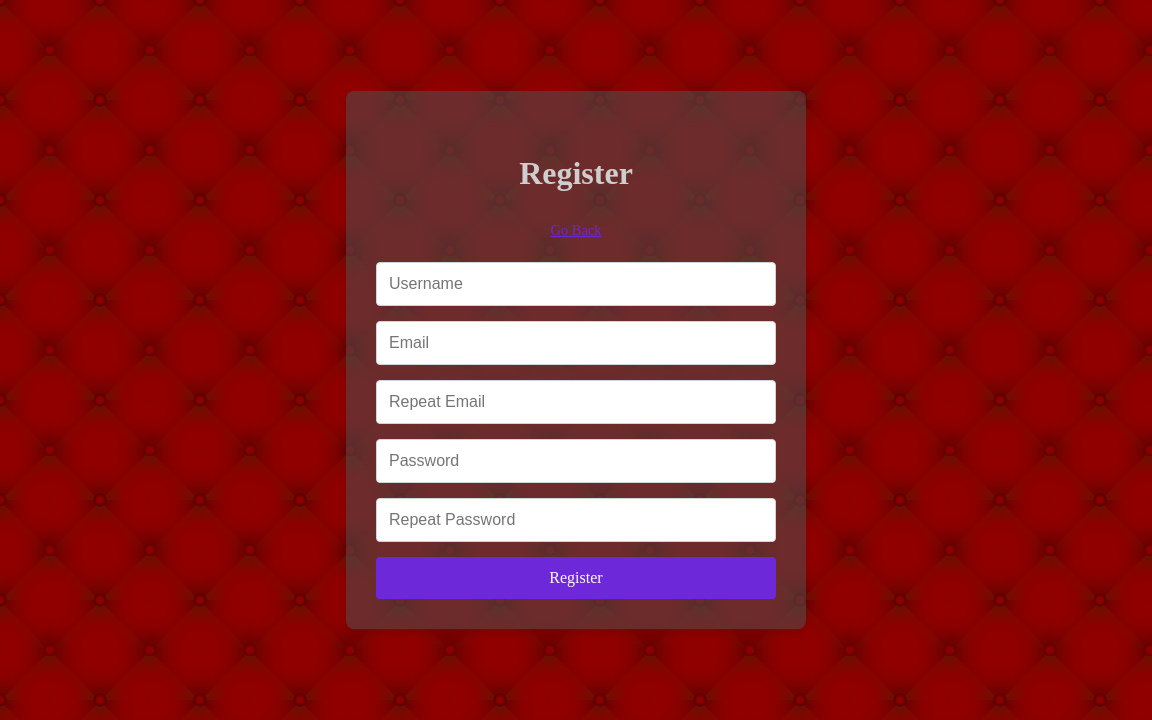
Test: RegisterPage Component › shows an error message if emails do not match
// Fill in the form fields
Type "testuser" into the field with placeholder "Username" at (576, 284), box [376,262,776,306]
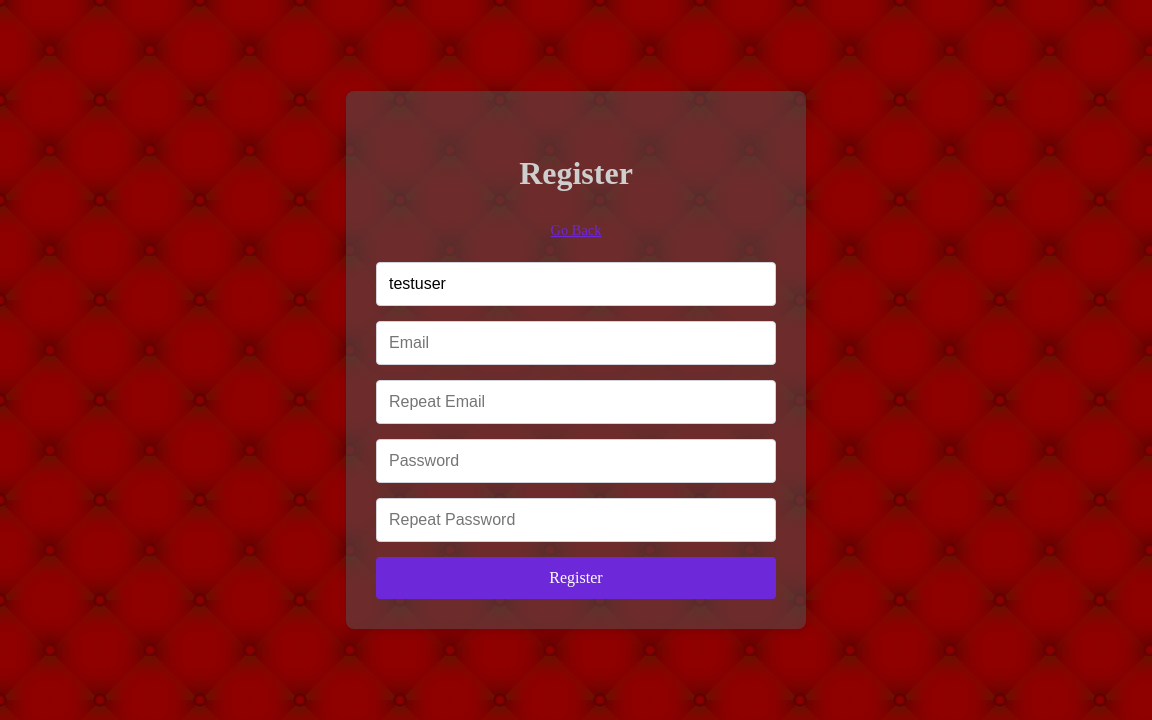
Type "test@example.com" into the field with placeholder "Email" at (576, 343), box [376,321,776,365]
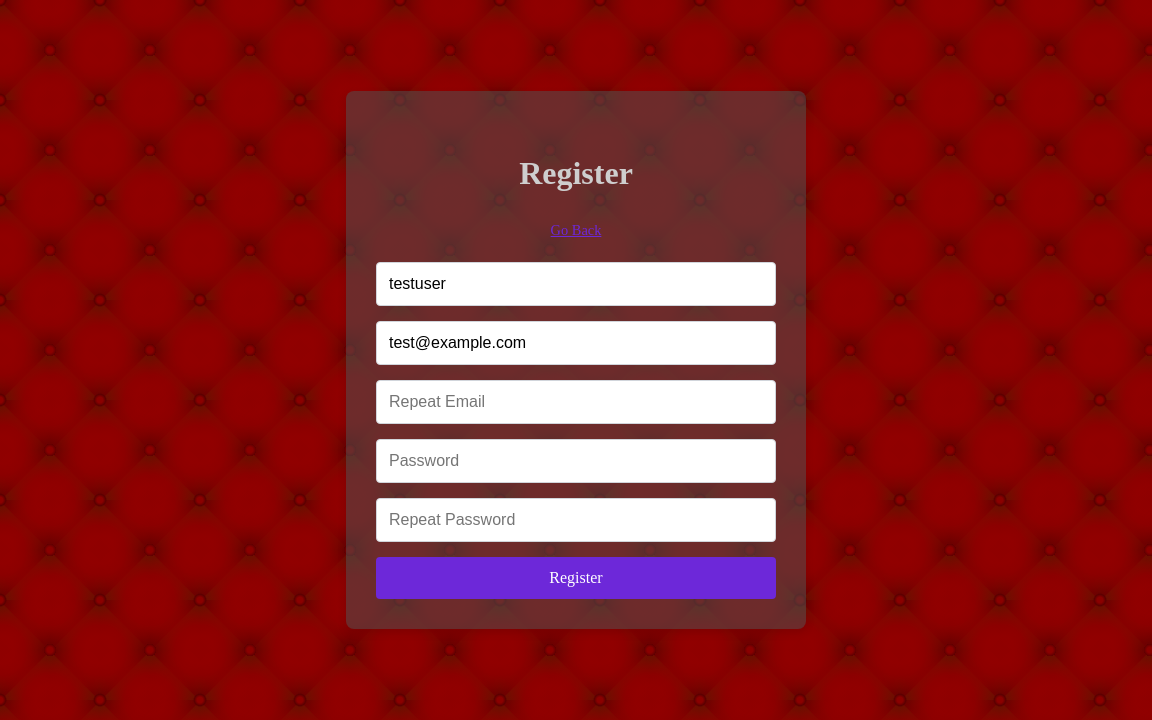
Type "different@example.com" into the field with placeholder "Repeat Email" at (576, 402), box [376,380,776,424]
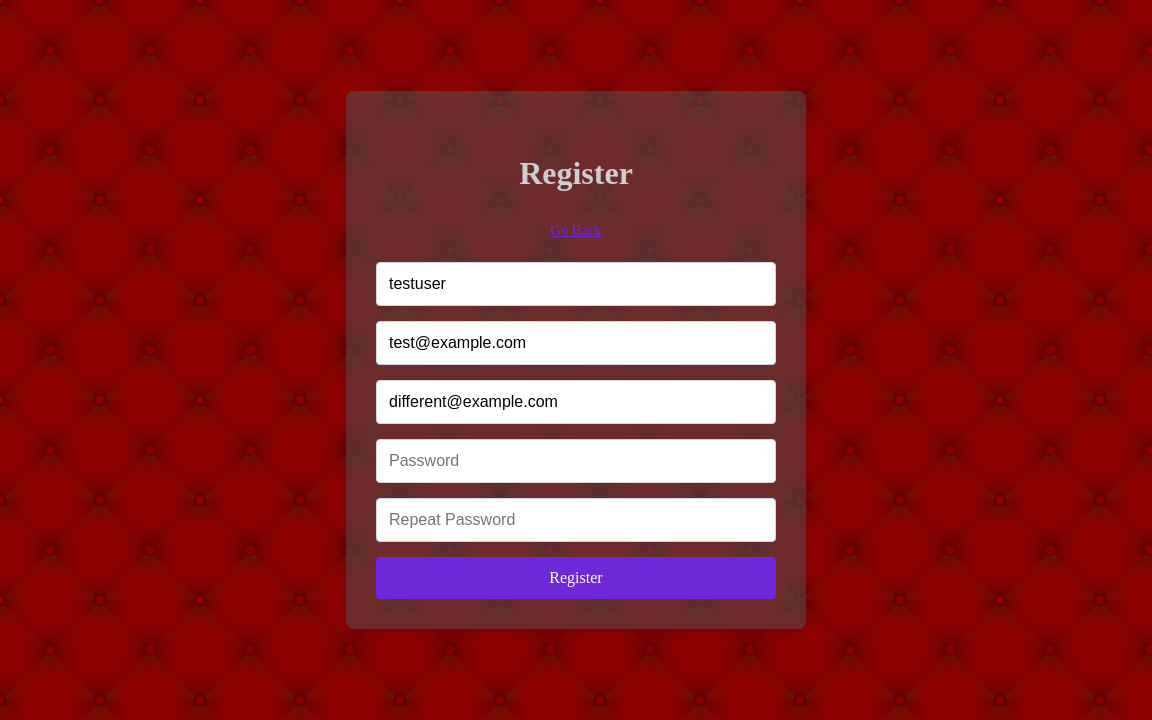
Type "password123" into the password field with placeholder "Password" at (576, 461), box [376,439,776,483]
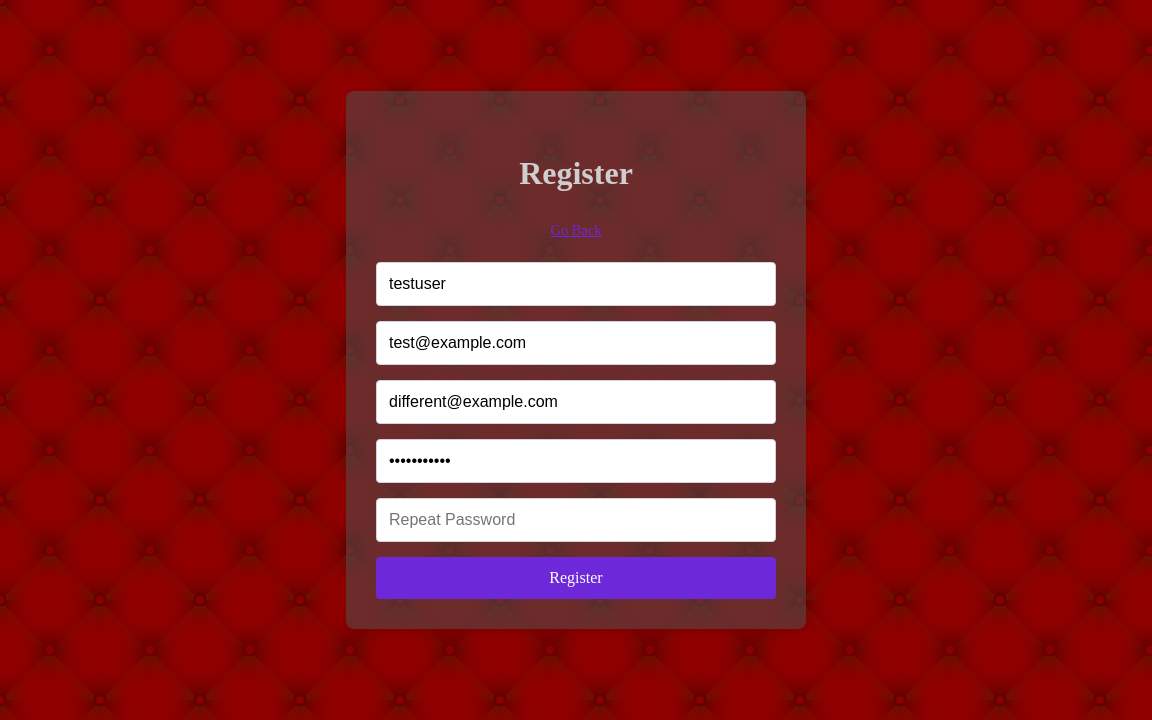
Type "password123" into the password field with placeholder "Repeat Password" at (576, 520), box [376,498,776,542]
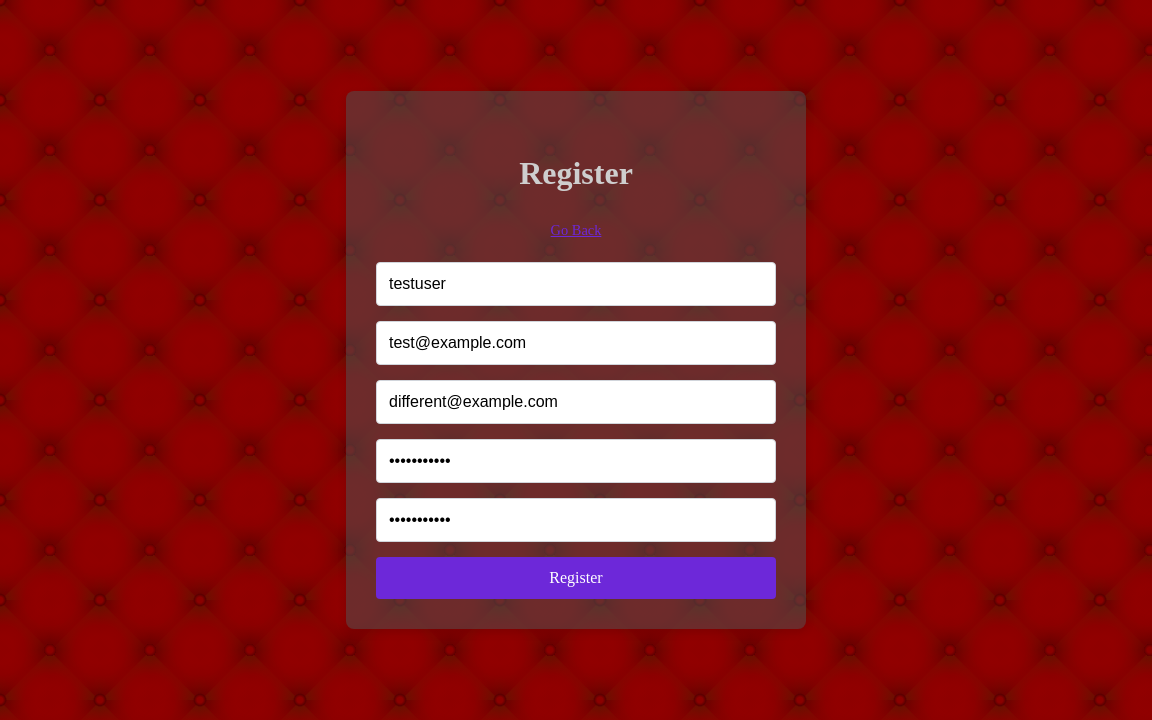
// Submit the form
Click the button "Register" at (576, 578), box [376,557,776,599]
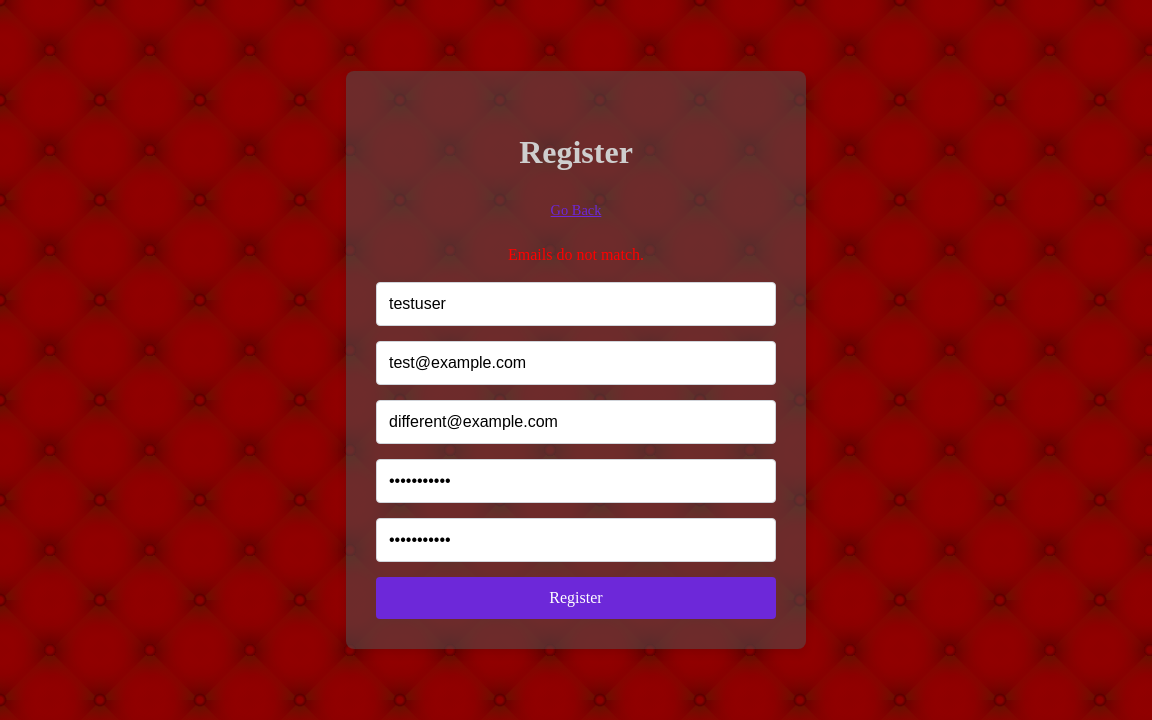
expect the text "Emails do not match." is shown: met, box [508,246,644,263]
